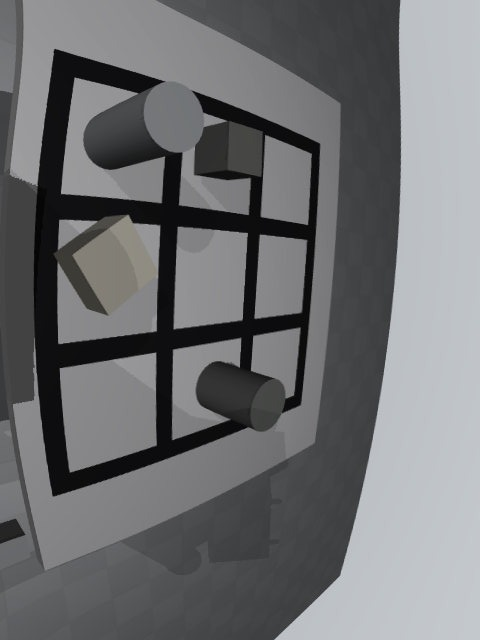can: (83, 81, 204, 170)
cube: (194, 121, 263, 180)
cylinder: (196, 361, 285, 432)
foam: (53, 215, 158, 316)
